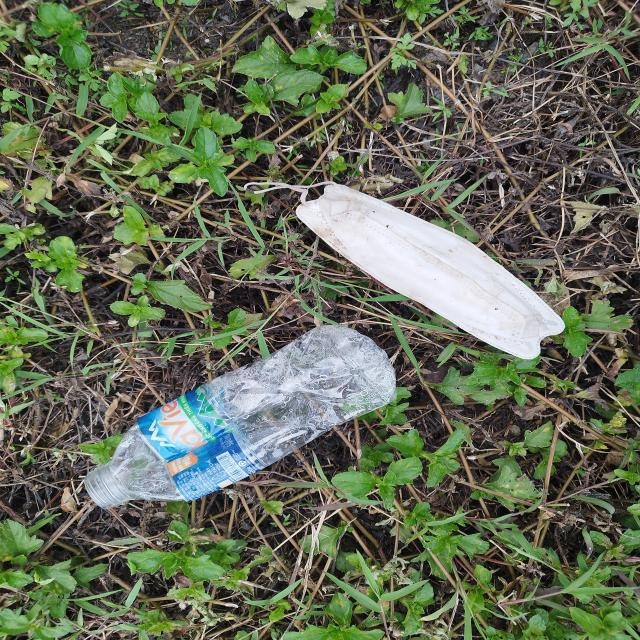bottle: (84, 326, 398, 507)
mask: (247, 182, 568, 360)
